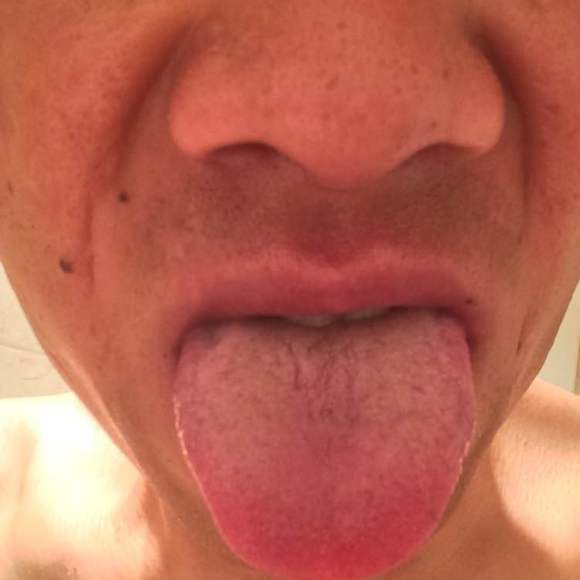hongshe: (174, 308, 475, 580)
